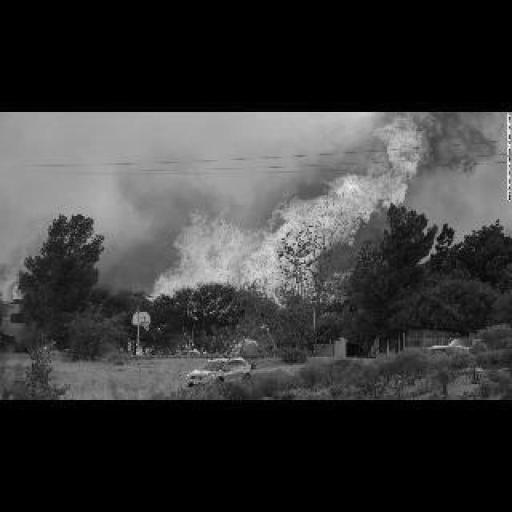smoke: (141, 112, 478, 304)
